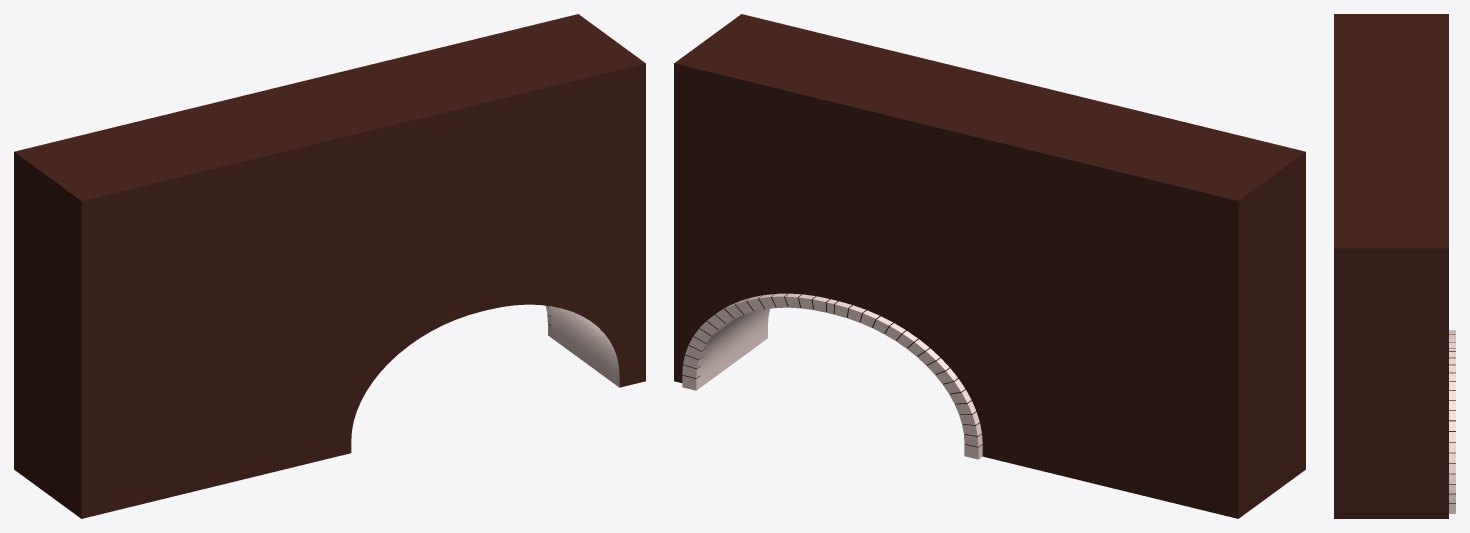
Rendered from Tunnel_1.fbx.
The picture shows the model from 3 angles, left to right: view 1: azimuth 30°, elevation 25°; view 2: azimuth 150°, elevation 25°; view 3: azimuth 270°, elevation 25°; orthographic projection. The views are drawn at different scales.
Visible parts, largest first — view 1: Tunnel; view 2: Tunnel; view 3: Tunnel.
Part boxes in pixels (<box>): Tunnel: <box>14,14,645,518</box>; Tunnel: <box>674,14,1305,518</box>; Tunnel: <box>1334,14,1455,518</box>.
Size of the model in its own units: 4785 by 2576 by 1052.
1 material, 1 textured.
